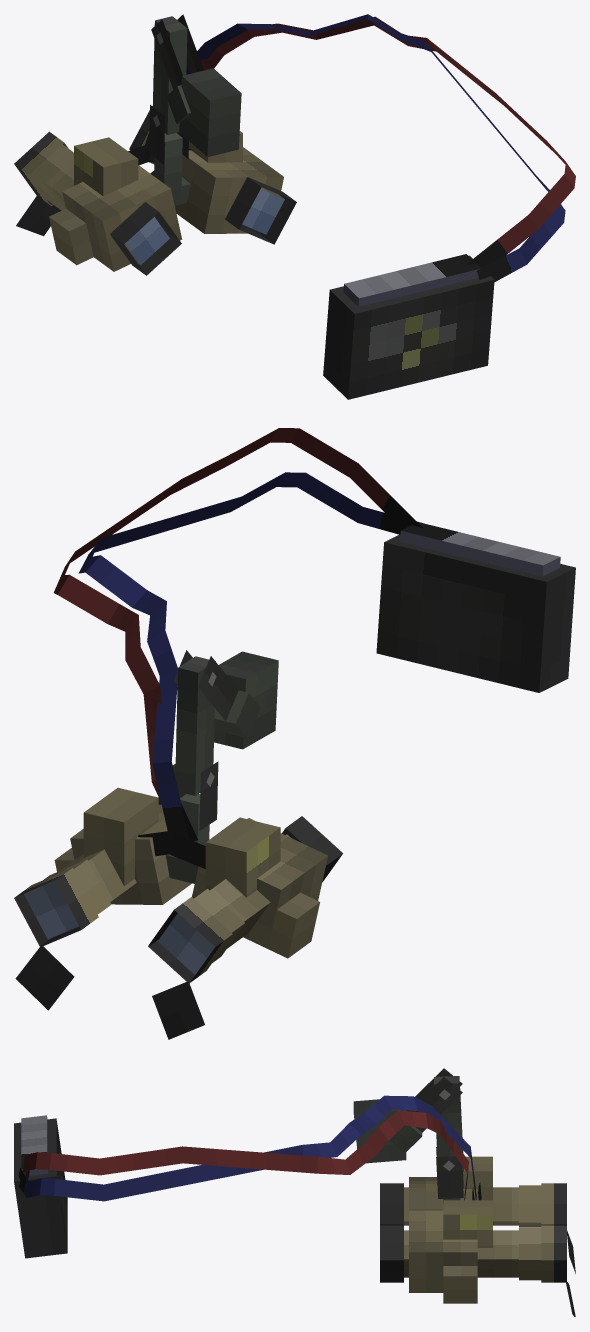
Rendered from nvg57.obj.
3 views of the same model, one above another, from view 1: azimuth 30°, elevation 25°; view 2: azimuth 150°, elevation 25°; view 3: azimuth 270°, elevation 25° (orthographic). The views are drawn at different scales.
Visible parts, largest first — view 1: pnv57; view 2: pnv57; view 3: pnv57.
Part boxes in pixels (x1=…): pnv57: x1=14, y1=14, x2=575, y2=399; pnv57: x1=14, y1=428, x2=575, y2=1039; pnv57: x1=14, y1=1068, x2=575, y2=1316.
Size of the model in its own units: 0.5243 by 0.4655 by 1.02.
